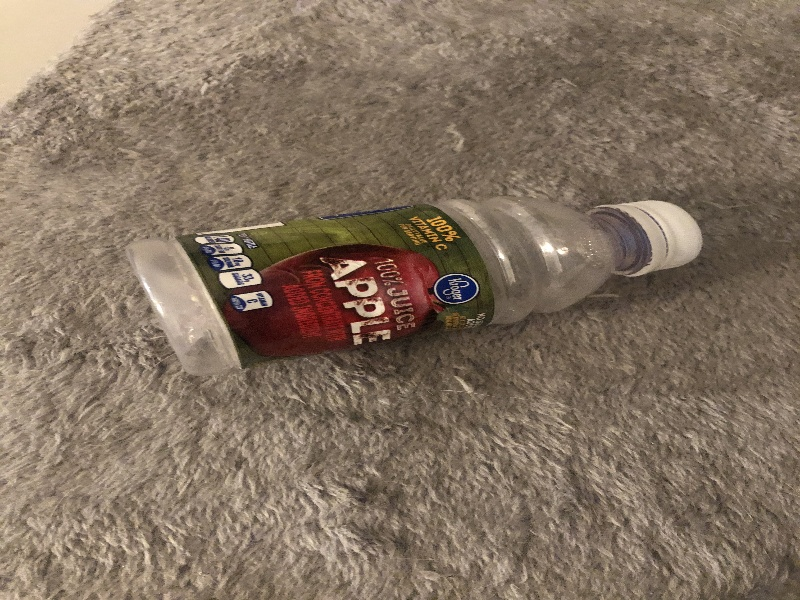plastic: (125, 195, 709, 381)
